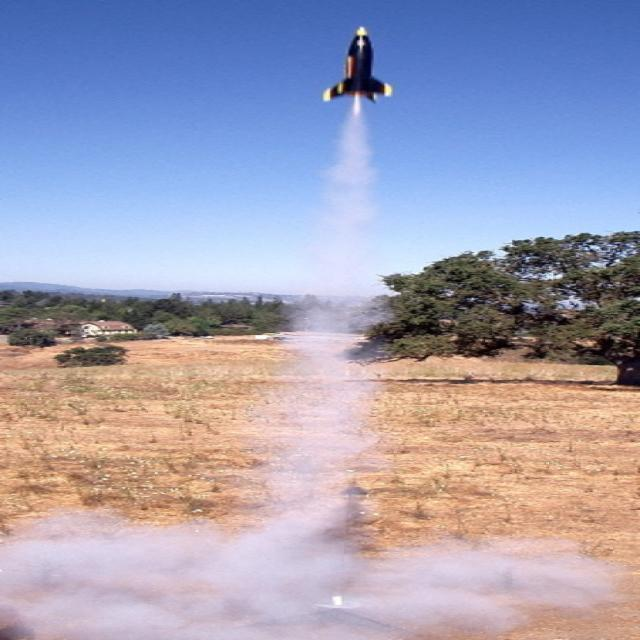Missile: (344, 21, 377, 83)
